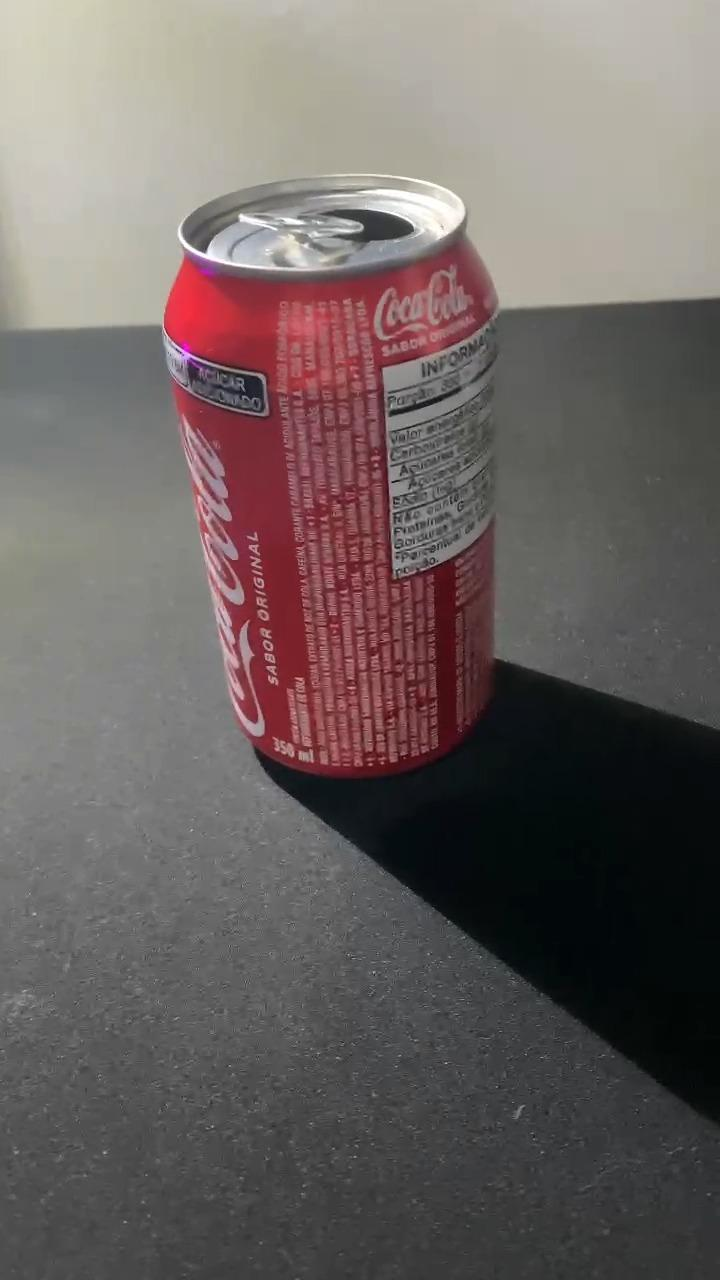coke: (165, 177, 500, 768)
